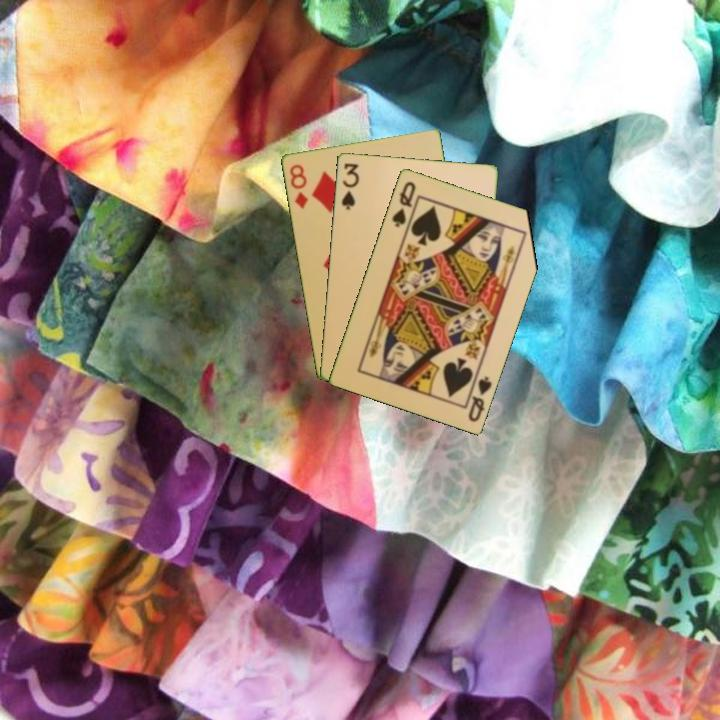3s: (338, 159, 362, 212)
8d: (286, 161, 310, 212)
Qs: (464, 373, 495, 425), (388, 177, 418, 230)
